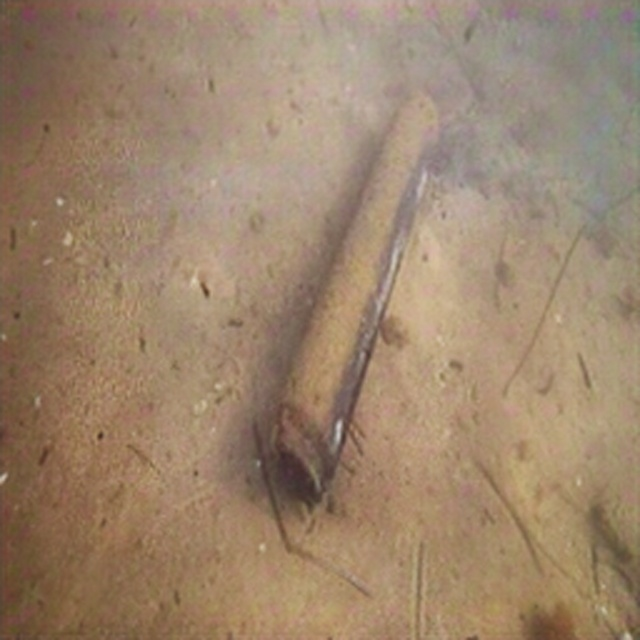mine: (268, 86, 439, 504)
